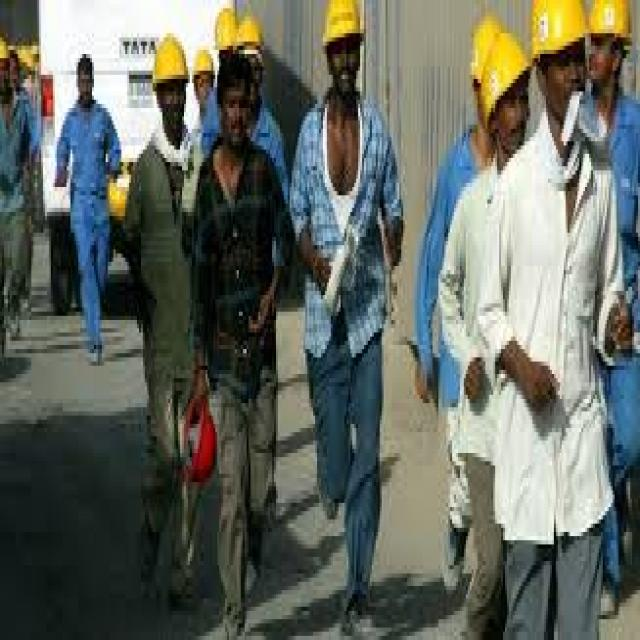Safety-Helmet: (466, 4, 532, 121), (211, 0, 272, 75), (529, 4, 587, 62), (315, 0, 372, 54), (149, 25, 190, 96), (581, 0, 636, 50), (192, 38, 217, 83), (0, 29, 12, 67)
